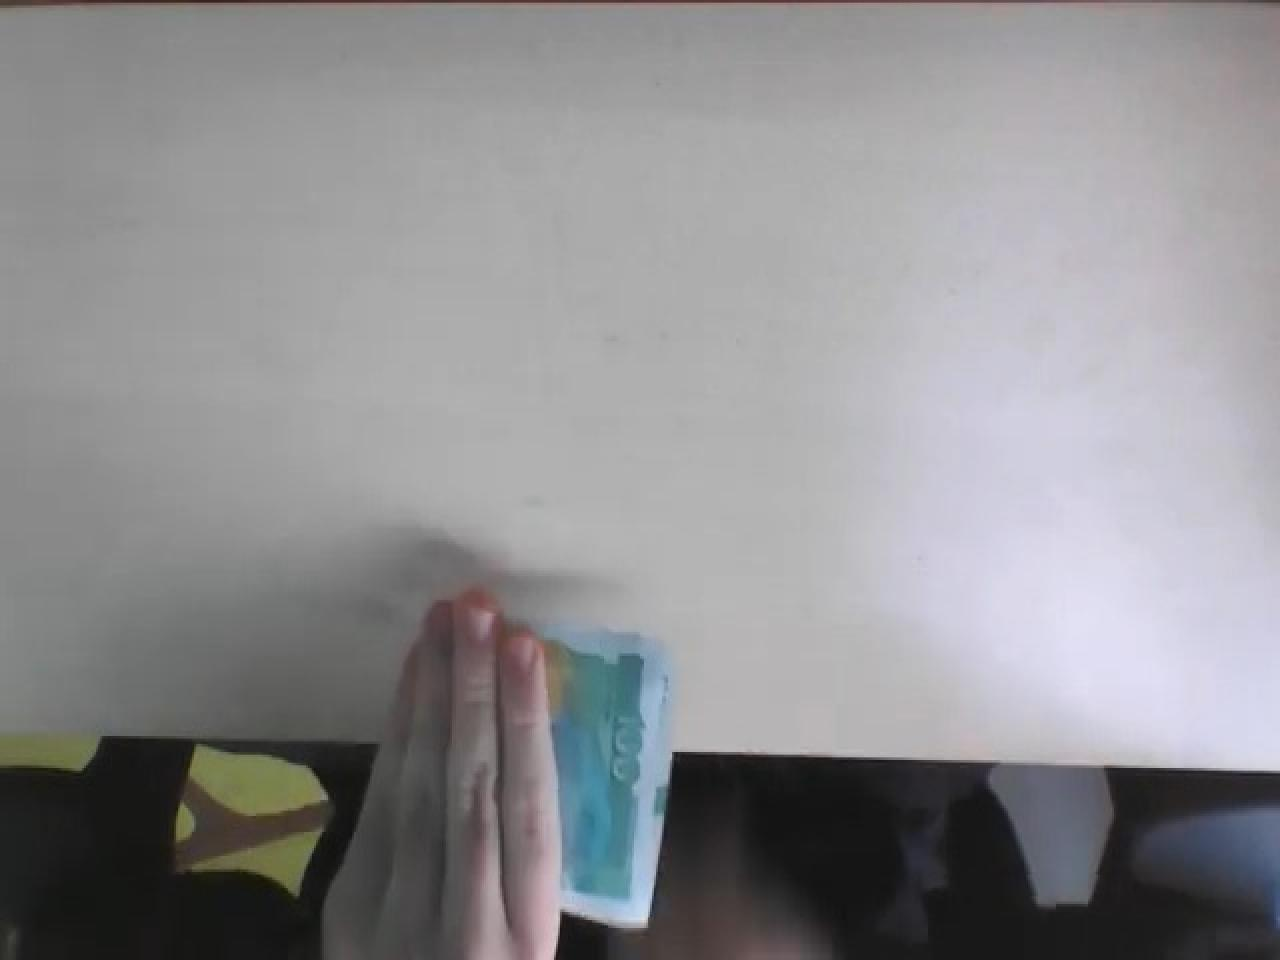100leva: (514, 629, 670, 928)
